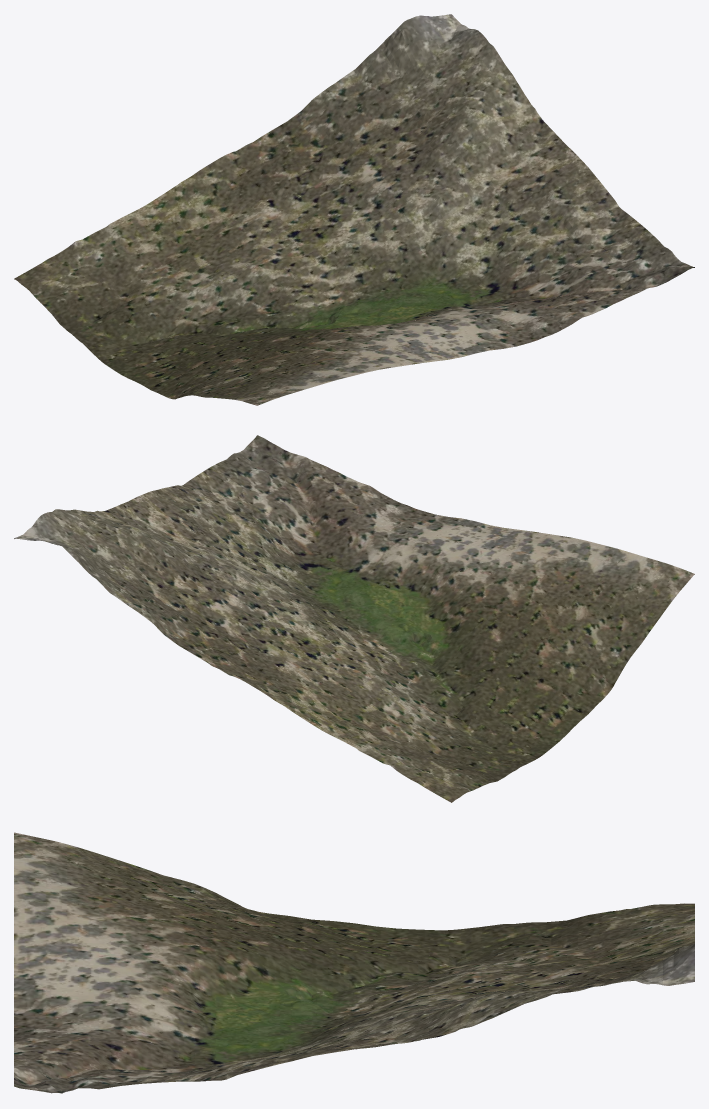
3 views of the same model, one above another, from view 1: azimuth 30°, elevation 25°; view 2: azimuth 150°, elevation 25°; view 3: azimuth 270°, elevation 25° (orthographic). The views are drawn at different scales.
Bounding box in the file's own units: 500 × 201 × 481.
1 material, 1 textured.
